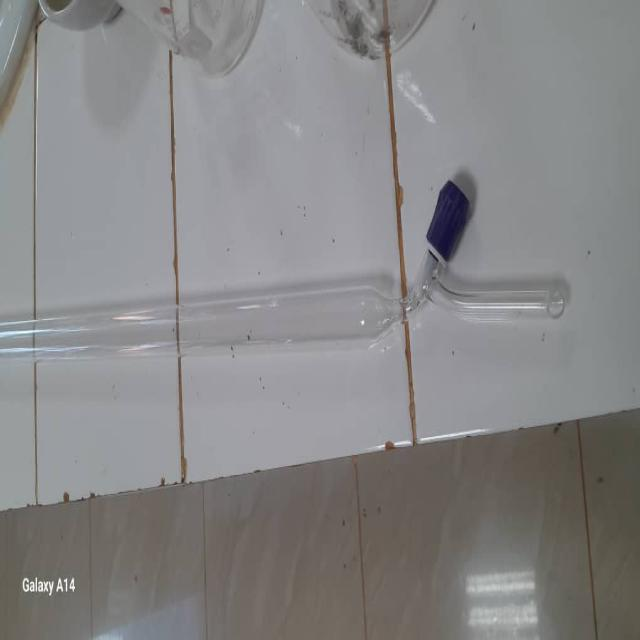Column Chromatography: (4, 162, 578, 392)
